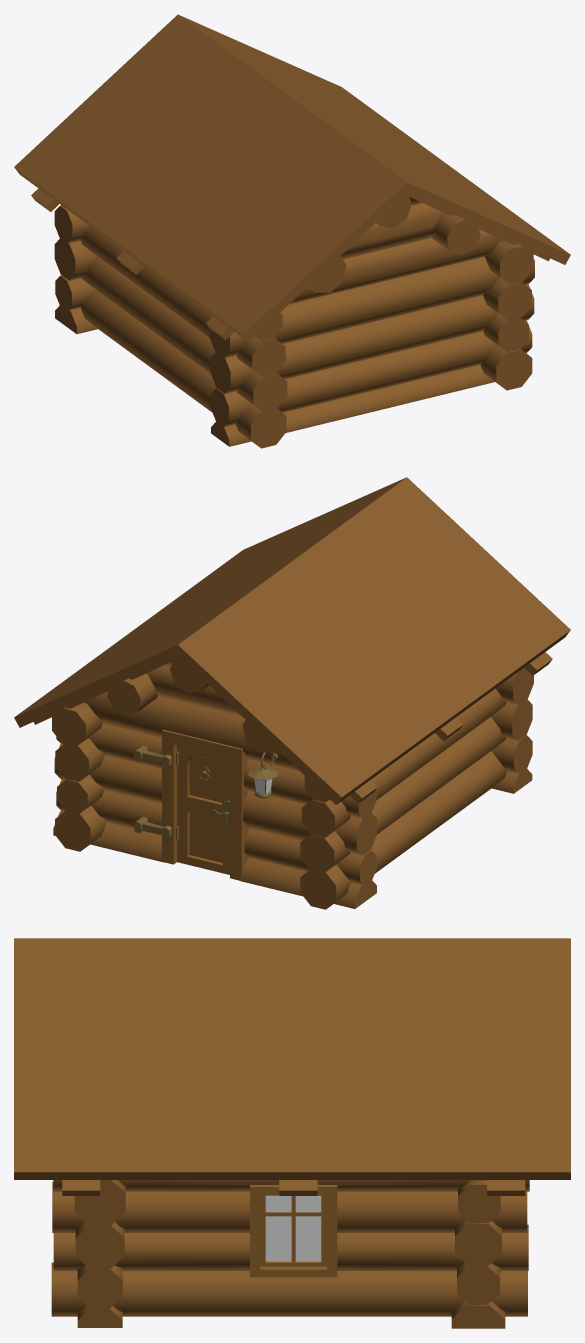
File: Cabaña.fbx
3 renders of one model, top to bottom at view 1: azimuth 30°, elevation 25°; view 2: azimuth 150°, elevation 25°; view 3: azimuth 270°, elevation 25°, orthographic. The views are drawn at different scales.
Visible parts, largest first — view 1: House; view 2: House, Door, Lamp; view 3: House.
Boxes of the visible parts, left/top/right/bottom form: House: left=14, top=14, right=570, bottom=448; House: left=14, top=477, right=570, bottom=909; Door: left=176, top=745, right=229, bottom=874; Lamp: left=248, top=752, right=278, bottom=798; House: left=14, top=938, right=570, bottom=1328.
Bounding box in the file's own units: 602 × 431 × 721.
